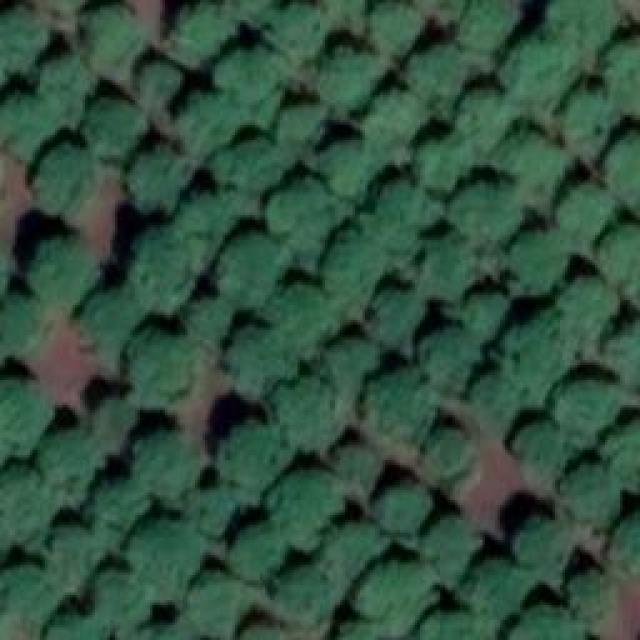Tree: (28, 142, 108, 220), (275, 177, 348, 255), (130, 332, 198, 410), (362, 555, 430, 630), (265, 475, 343, 540), (35, 233, 103, 303), (367, 380, 435, 450), (225, 235, 285, 310), (140, 428, 208, 493), (233, 325, 296, 393), (225, 415, 288, 483), (170, 3, 235, 68), (320, 45, 383, 110), (145, 520, 208, 585), (508, 230, 571, 295), (132, 240, 190, 308), (370, 182, 428, 250), (133, 148, 193, 213), (0, 568, 60, 633), (555, 183, 620, 243), (0, 470, 55, 540), (83, 290, 138, 360), (285, 380, 345, 443), (508, 325, 571, 385), (500, 40, 565, 98), (415, 135, 478, 193), (460, 180, 523, 238), (43, 55, 96, 123), (45, 433, 105, 493), (418, 38, 478, 98), (330, 230, 378, 303), (180, 93, 238, 153), (558, 462, 618, 520), (220, 45, 283, 100), (280, 565, 335, 628), (417, 237, 475, 295), (420, 337, 478, 395), (187, 580, 245, 638), (188, 195, 241, 258), (553, 380, 616, 433), (373, 88, 428, 148), (0, 95, 48, 163), (85, 7, 140, 65), (562, 88, 620, 143), (283, 285, 336, 345), (508, 130, 561, 190), (218, 148, 288, 193), (0, 380, 48, 445), (373, 0, 426, 58), (368, 285, 421, 343), (228, 522, 281, 580), (95, 480, 150, 535), (460, 88, 515, 143), (563, 285, 618, 340), (423, 515, 478, 570), (550, 0, 613, 48), (93, 100, 148, 153), (275, 5, 328, 60), (465, 560, 518, 615), (597, 230, 640, 297), (373, 485, 433, 533), (325, 338, 378, 391), (600, 35, 640, 105), (0, 8, 50, 63), (328, 135, 381, 185), (55, 525, 108, 575), (473, 380, 526, 430), (0, 300, 48, 353), (570, 568, 618, 621), (328, 518, 378, 568), (280, 100, 325, 155), (98, 575, 153, 620), (462, 290, 510, 340), (515, 517, 565, 565), (470, 0, 523, 45), (600, 417, 640, 475), (330, 445, 380, 490), (518, 423, 568, 468), (188, 298, 231, 348), (605, 518, 640, 578), (433, 432, 476, 480), (602, 315, 640, 368), (418, 610, 483, 640), (198, 482, 238, 530), (515, 607, 570, 640), (610, 135, 640, 195), (140, 62, 185, 100), (45, 610, 100, 640), (103, 398, 136, 441), (322, 0, 379, 22), (140, 620, 195, 640), (235, 620, 290, 640), (330, 620, 373, 640)
